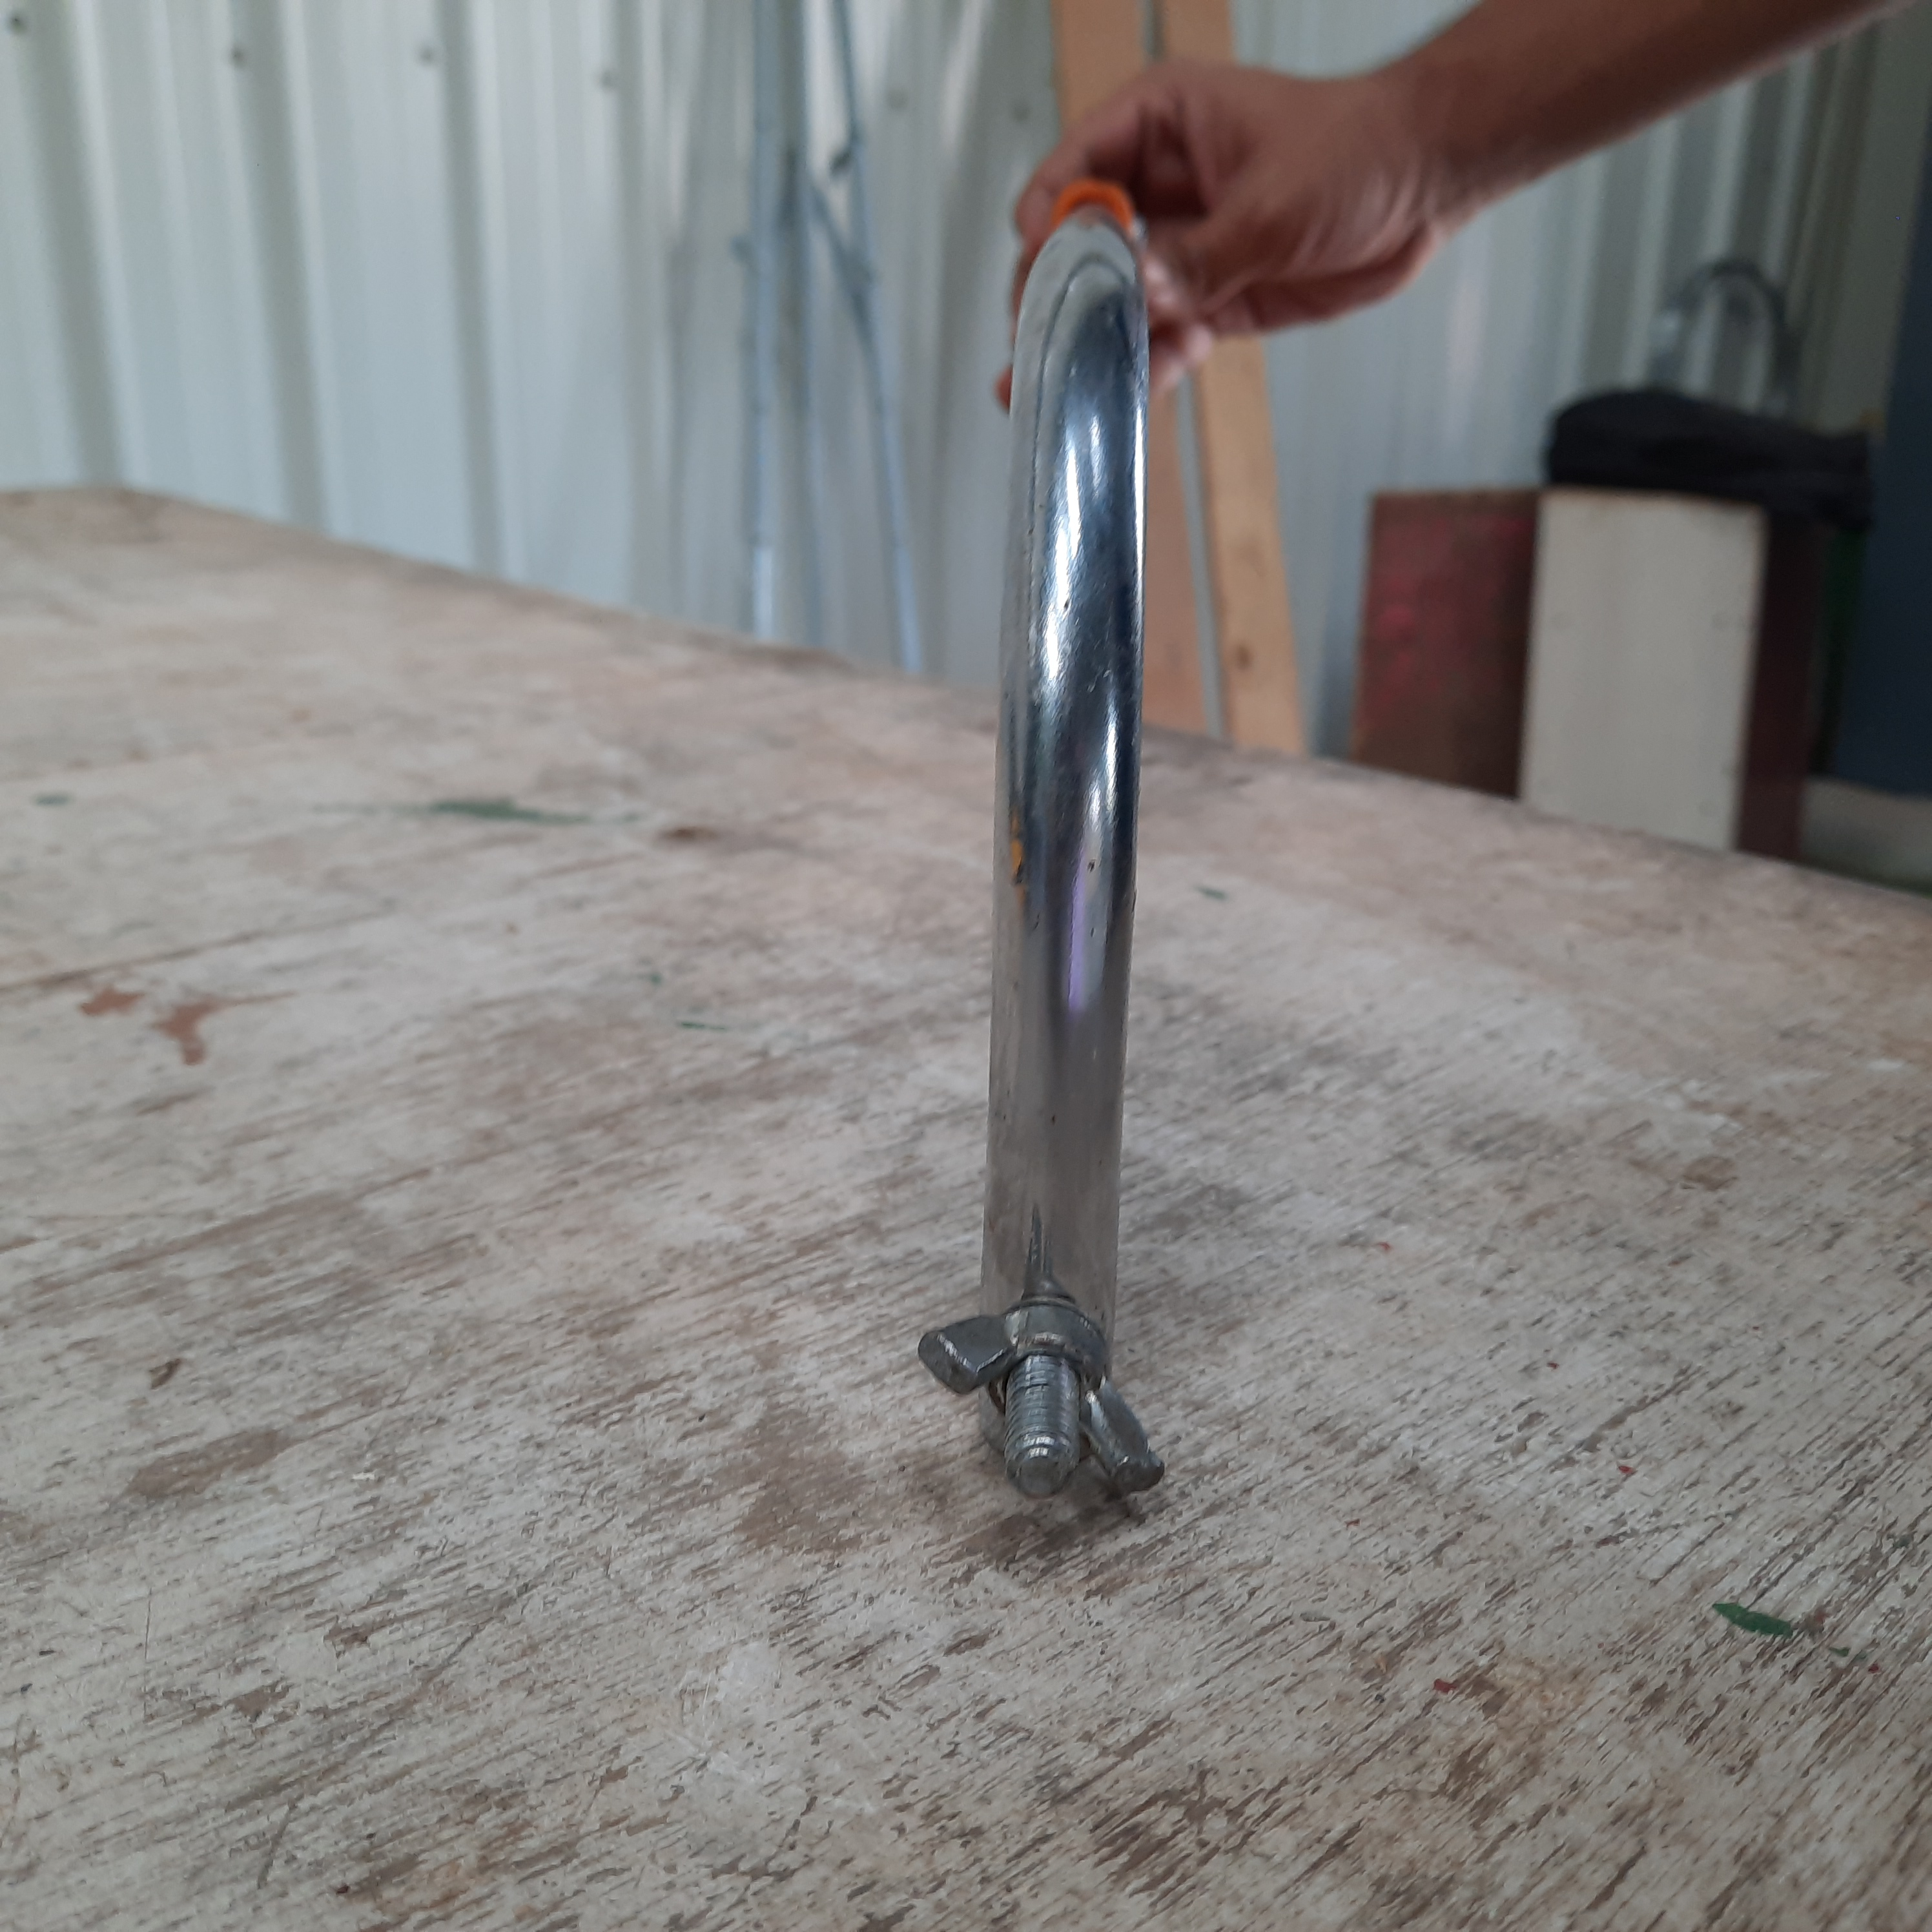Hexaframe: (916, 172, 1325, 1564)
